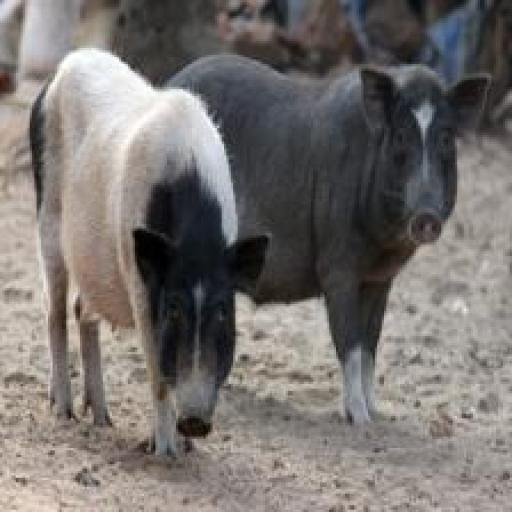Pig: (14, 36, 272, 486), (297, 50, 495, 458)
